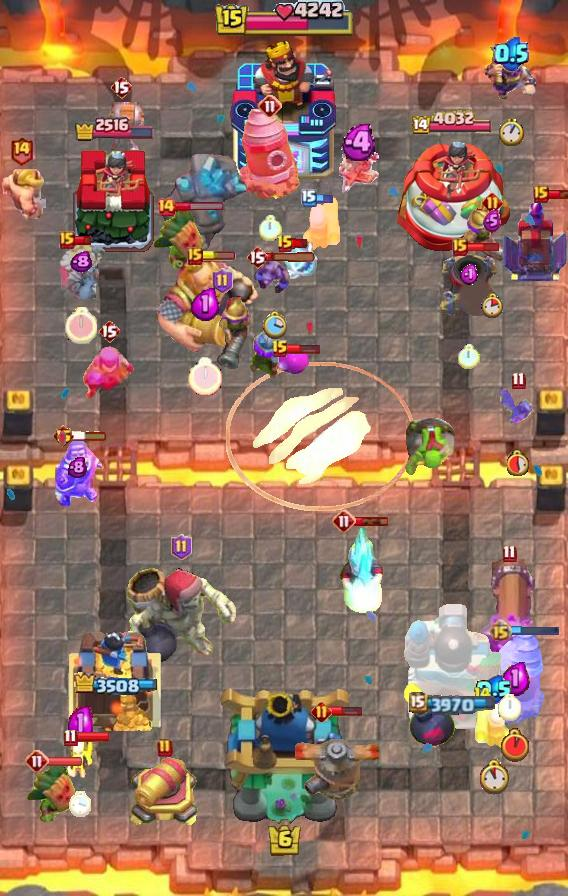bar: (509, 624, 561, 637), (265, 252, 317, 263), (174, 201, 225, 212), (75, 731, 111, 743), (72, 430, 108, 442), (466, 241, 501, 253), (47, 756, 83, 767), (329, 705, 362, 717), (287, 343, 320, 355), (354, 516, 389, 527), (200, 251, 236, 261), (546, 188, 568, 200), (73, 235, 92, 246), (315, 193, 334, 204), (292, 238, 309, 249)
bar-level: (9, 135, 34, 166), (25, 749, 49, 773), (332, 509, 356, 533), (258, 94, 282, 118), (52, 424, 75, 448), (171, 534, 192, 560), (212, 268, 233, 294), (489, 619, 512, 642), (98, 319, 120, 343), (246, 245, 268, 269), (110, 75, 132, 99), (311, 701, 332, 722), (482, 192, 503, 213), (156, 197, 176, 217), (473, 686, 492, 705), (271, 339, 289, 359), (276, 234, 294, 254), (157, 738, 173, 758), (187, 247, 203, 265), (452, 238, 468, 256), (59, 231, 75, 249), (301, 189, 317, 207), (533, 185, 549, 203), (63, 728, 78, 747), (502, 544, 517, 563), (511, 371, 526, 390)
barbarian-evolution: (483, 47, 539, 104)
bat-evolution: (500, 385, 536, 427)
bomb: (402, 680, 456, 748)
cannoneer-tower: (403, 601, 503, 731)
clock: (188, 357, 222, 396), (477, 759, 511, 795), (65, 307, 97, 344), (501, 728, 529, 762), (262, 310, 287, 340), (499, 118, 524, 146), (69, 791, 92, 818), (498, 694, 521, 721), (507, 449, 530, 476), (259, 215, 282, 241), (481, 292, 503, 318), (458, 344, 480, 369)
dart-goblin: (25, 757, 83, 827), (152, 204, 208, 276)
elite-barbarian: (0, 168, 46, 222)
elixir: (341, 124, 380, 161), (494, 36, 529, 71), (475, 675, 513, 704), (501, 660, 530, 696), (191, 286, 220, 321), (68, 706, 93, 741), (70, 251, 92, 273), (68, 456, 87, 478), (483, 209, 501, 232), (460, 264, 479, 285)
elixir-golem-small: (274, 346, 310, 376)
firecracker: (473, 692, 515, 750), (300, 194, 342, 252)
goblin-ball: (402, 416, 456, 478)
ice-spirit: (282, 240, 318, 280)
ice-wizard: (337, 525, 387, 617)
king-tower: (216, 684, 352, 826), (230, 41, 338, 181)
king-tower-bar: (213, 0, 355, 40)
knight-evolution: (53, 439, 102, 507)
minion: (254, 253, 294, 297)
mortar: (438, 251, 500, 319)
mother-witch: (81, 342, 137, 402)
musketeer: (460, 205, 524, 271), (215, 285, 257, 373), (248, 314, 282, 378)
princess: (338, 139, 382, 199)
queen-tower: (390, 137, 516, 256), (66, 621, 162, 731), (71, 145, 157, 256)
royal-ghost: (54, 237, 108, 299)
skeleton: (65, 735, 95, 779)
tower-bar: (412, 110, 495, 137), (73, 115, 155, 142), (409, 692, 498, 715), (72, 672, 157, 696)
wall-breaker: (97, 102, 145, 150)
